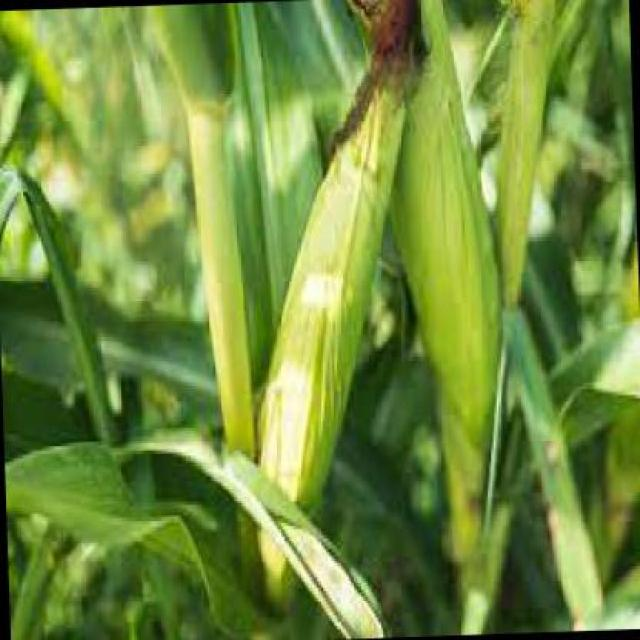Corn: (215, 19, 428, 598)
